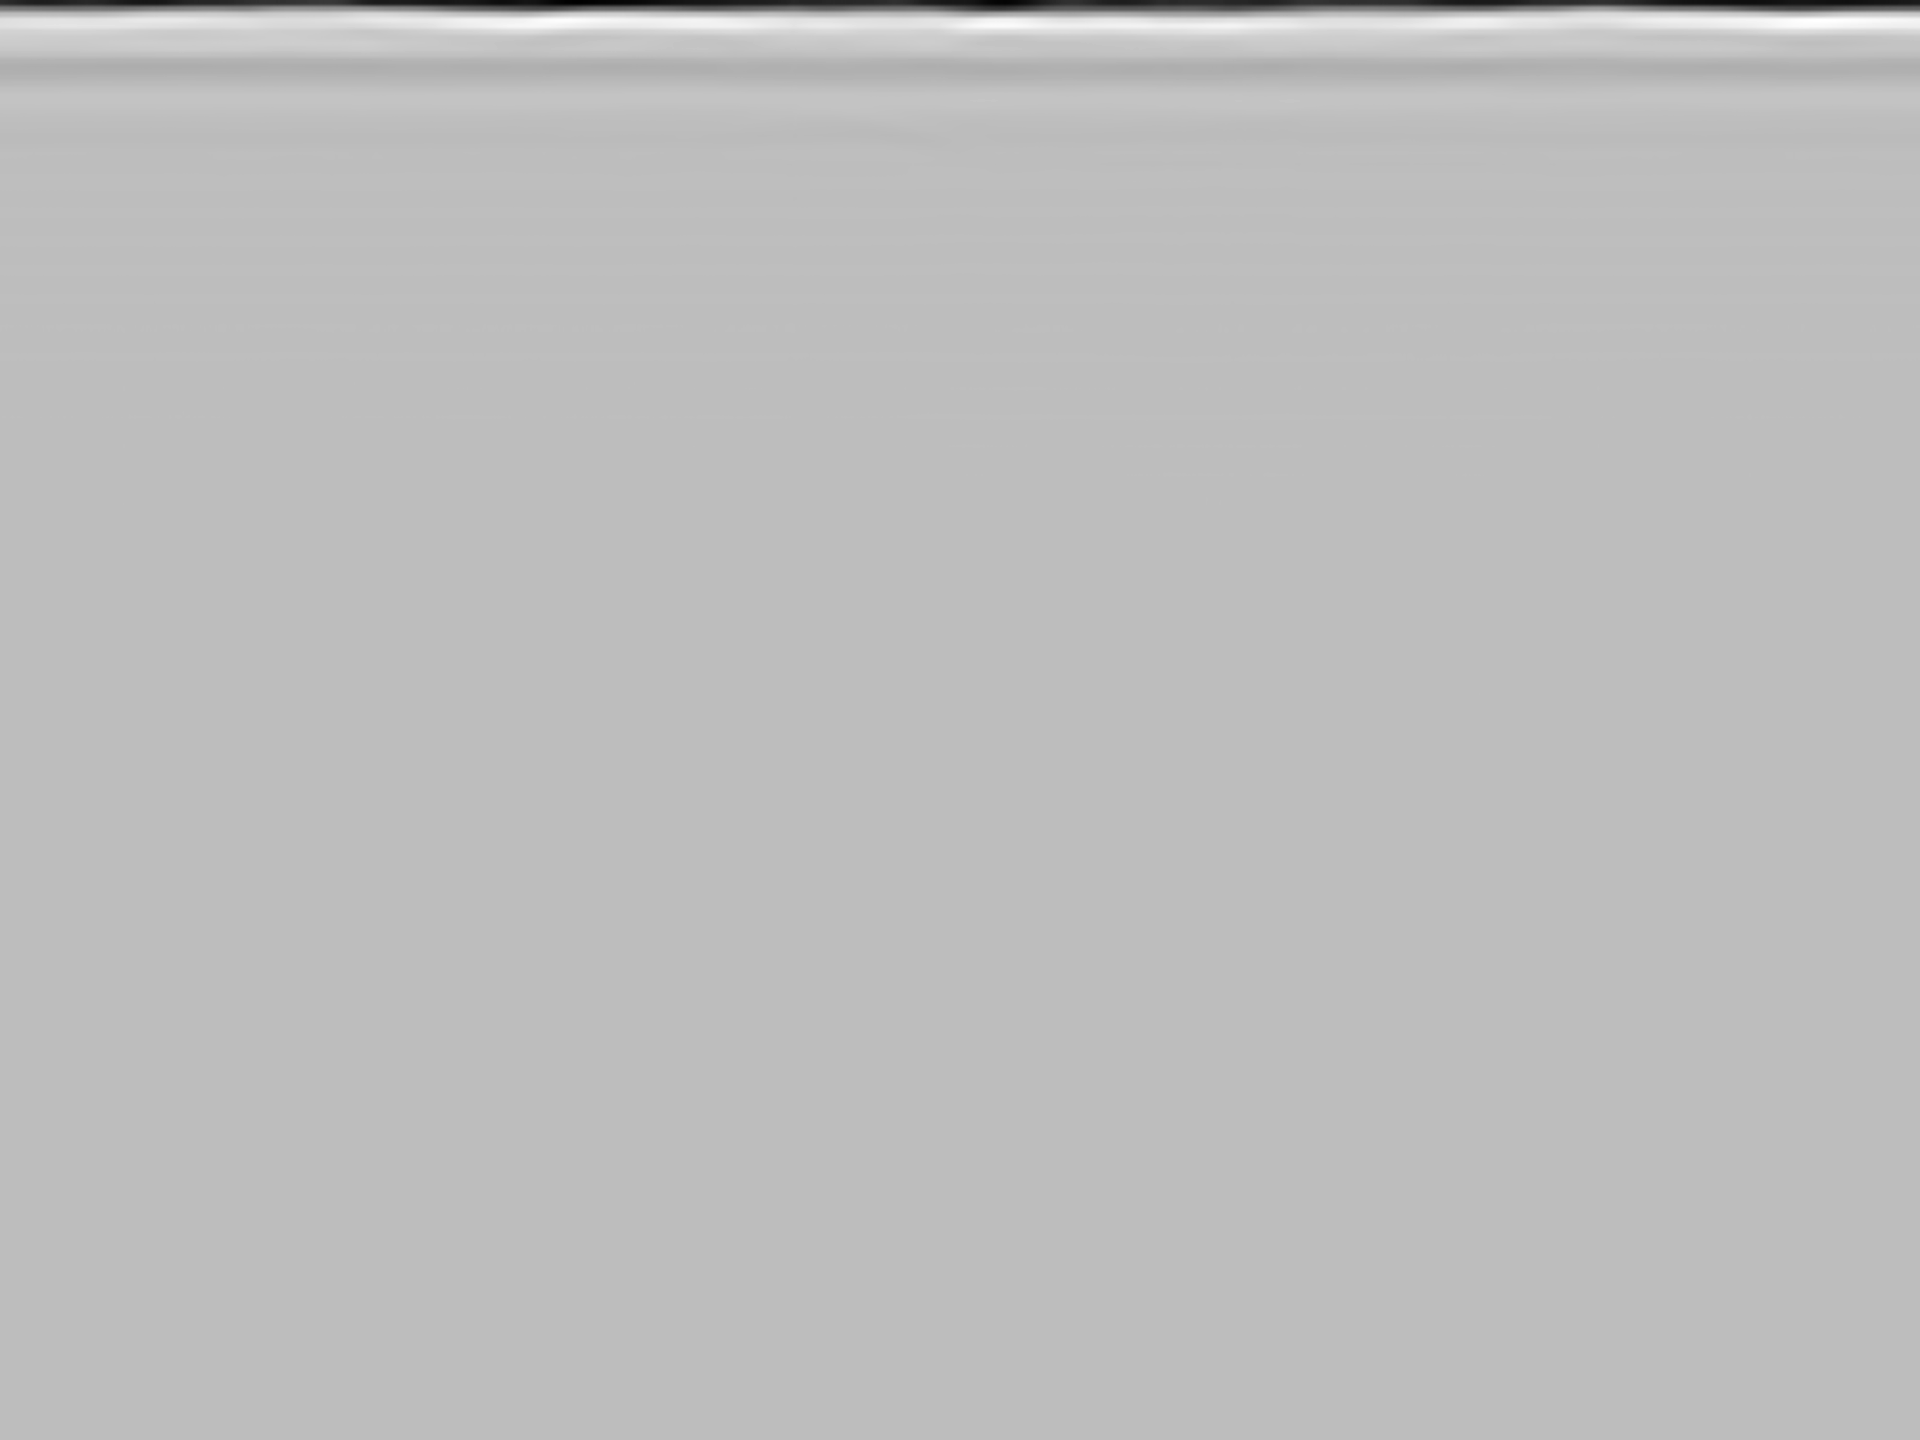Tunnel: (670, 101, 1004, 175)
